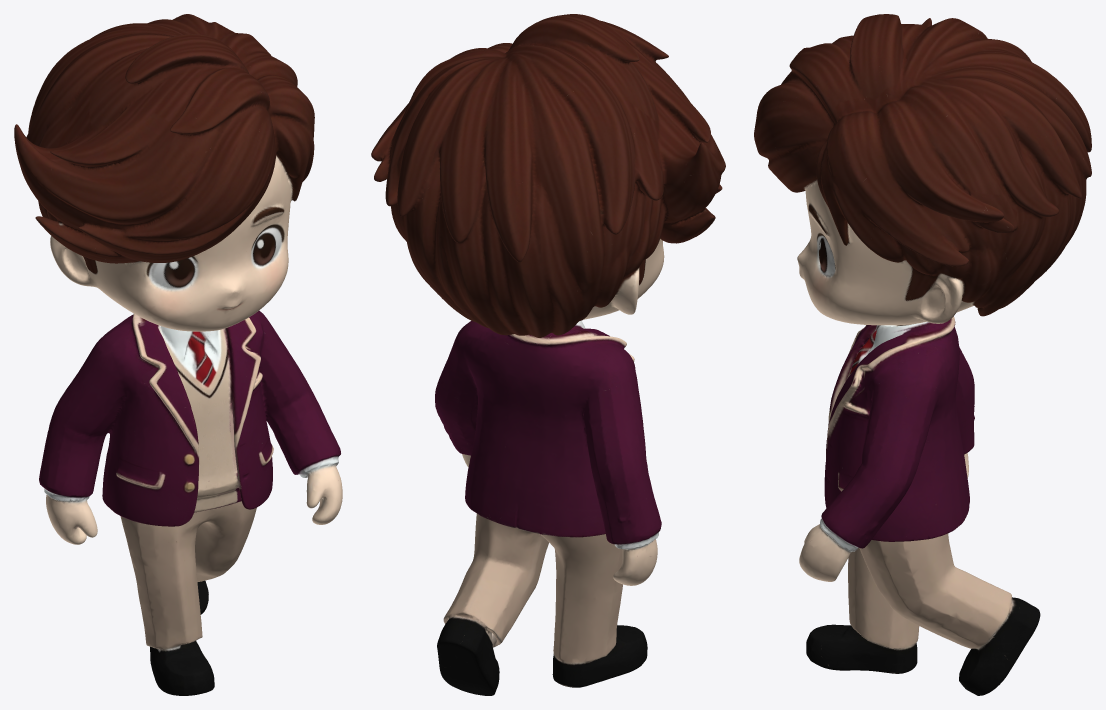
Rendered from school-player-meshy-source.glb.
The picture shows the model from 3 angles, left to right: view 1: azimuth 30°, elevation 25°; view 2: azimuth 150°, elevation 25°; view 3: azimuth 270°, elevation 25°; orthographic projection. The views are drawn at different scales.
Bounding box in the file's own units: 0.9164 × 1.9 × 0.8992.
1 material, 1 textured.
